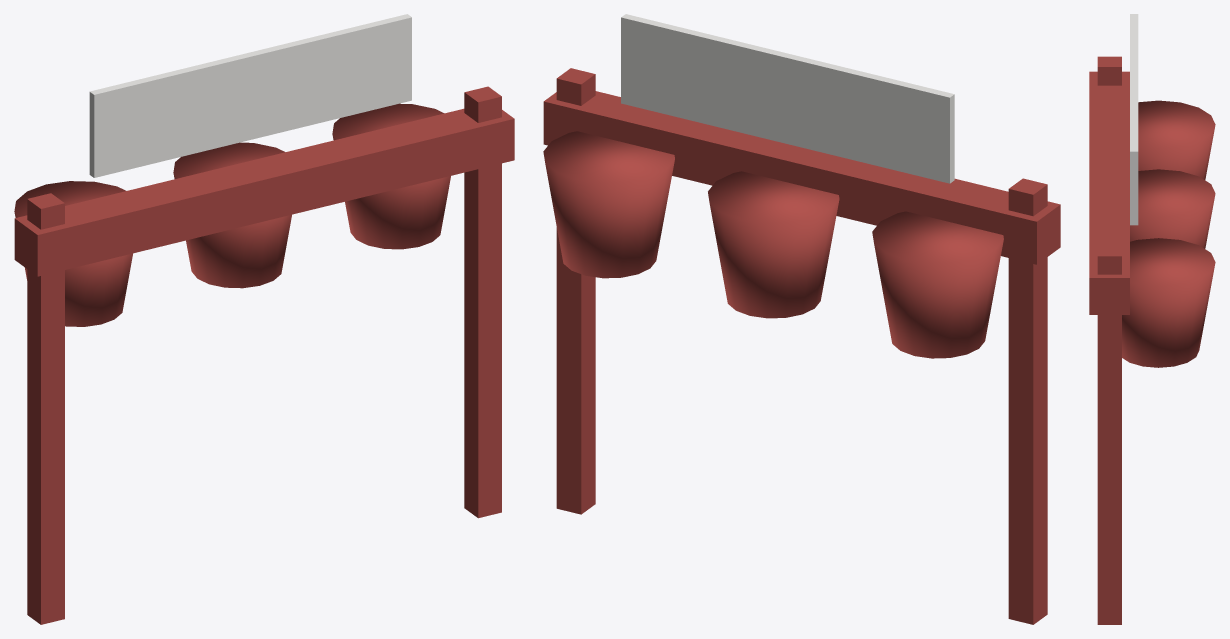
File: prop_fire_bucket.glb
3 views of the same model, side by side, from view 1: azimuth 30°, elevation 25°; view 2: azimuth 150°, elevation 25°; view 3: azimuth 270°, elevation 25° (orthographic). The views are drawn at different scales.
Visible parts, largest first — view 1: fire_bucket; view 2: fire_bucket; view 3: fire_bucket.
Boxes of the visible parts, <box> form: fire_bucket: <box>14,14,514,624</box>; fire_bucket: <box>543,14,1060,624</box>; fire_bucket: <box>1089,14,1215,624</box>.
Size of the model in its own units: 1.2 by 1.2 by 0.31.
